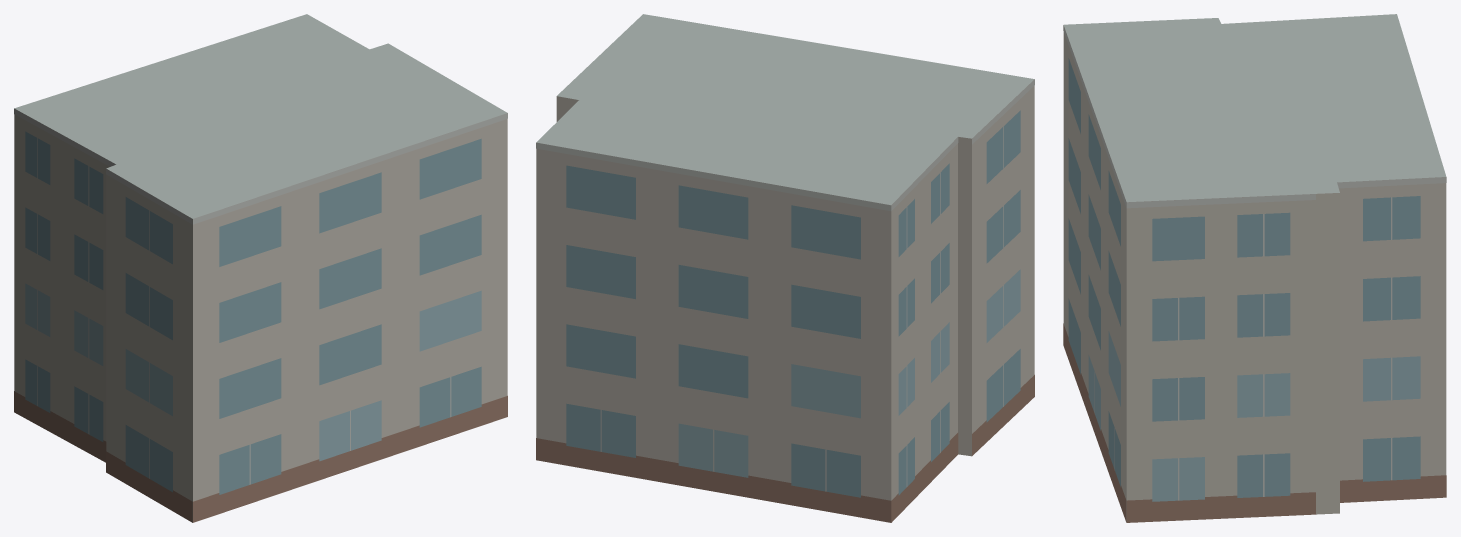
File: survey-upis-32784557.glb
3 views of the same model, side by side, from view 1: azimuth 30°, elevation 25°; view 2: azimuth 150°, elevation 25°; view 3: azimuth 270°, elevation 25° (orthographic). The views are drawn at different scales.
Parts seen in each view (by area): view 1: survey-upis-32784557.tmp; view 2: survey-upis-32784557.tmp; view 3: survey-upis-32784557.tmp.
Part boxes in pixels (x1,y1,x2,y2): survey-upis-32784557.tmp: (14, 14, 507, 522); survey-upis-32784557.tmp: (536, 14, 1034, 522); survey-upis-32784557.tmp: (1063, 14, 1446, 522).
Size of the model in its own units: 16.12 by 12.8 by 13.87.
